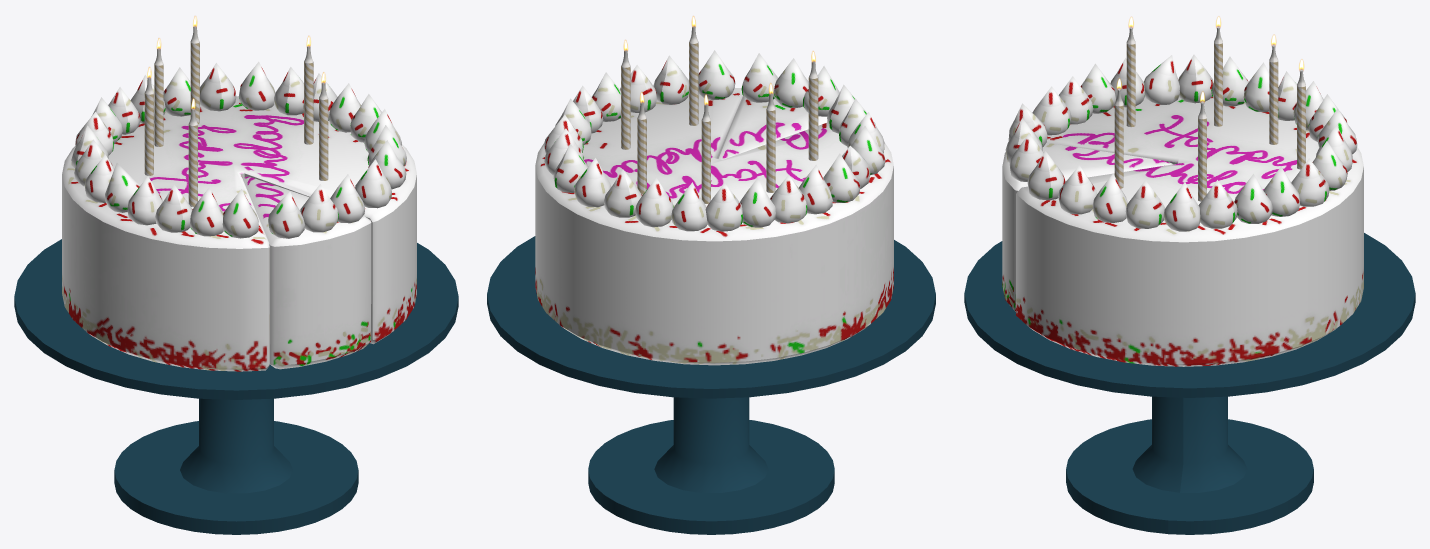
3 renders of one model, left to right at view 1: azimuth 30°, elevation 25°; view 2: azimuth 150°, elevation 25°; view 3: azimuth 270°, elevation 25°, orthographic.
Visible parts, largest first — view 1: MOD_CakeSliceTakenOut.001, MOD_CakePlatter.001, MOD_CakeSlice.001, MOD_BirthdayCandle.002, MOD_BirthdayCandle.004, MOD_BirthdayCandle.005, MOD_BirthdayCandle.003, MOD_BirthdayCandle.001, MOD_BirthdayCandle.006; view 2: MOD_CakeSliceTakenOut.001, MOD_CakePlatter.001, MOD_CakeSlice.001, MOD_BirthdayCandle.001, MOD_BirthdayCandle.002, MOD_BirthdayCandle.004, MOD_BirthdayCandle.005, MOD_BirthdayCandle.003, MOD_BirthdayCandle.006; view 3: MOD_CakeSliceTakenOut.001, MOD_CakePlatter.001, MOD_CakeSlice.001, MOD_BirthdayCandle.001, MOD_BirthdayCandle.003, MOD_BirthdayCandle.004, MOD_BirthdayCandle.002, MOD_BirthdayCandle.006, MOD_BirthdayCandle.005.
Part boxes in pixels (left/top/right/bottom): MOD_CakeSliceTakenOut.001: left=62, top=61, right=416, bottom=371; MOD_CakePlatter.001: left=14, top=239, right=458, bottom=534; MOD_CakeSlice.001: left=242, top=174, right=371, bottom=369; MOD_BirthdayCandle.002: left=144, top=67, right=153, bottom=175; MOD_BirthdayCandle.004: left=319, top=72, right=328, bottom=180; MOD_BirthdayCandle.005: left=304, top=36, right=313, bottom=144; MOD_BirthdayCandle.003: left=154, top=38, right=163, bottom=146; MOD_BirthdayCandle.001: left=188, top=98, right=197, bottom=207; MOD_BirthdayCandle.006: left=190, top=16, right=199, bottom=124; MOD_CakeSliceTakenOut.001: left=535, top=50, right=893, bottom=365; MOD_CakePlatter.001: left=487, top=236, right=935, bottom=534; MOD_CakeSlice.001: left=718, top=53, right=839, bottom=159; MOD_BirthdayCandle.001: left=808, top=51, right=818, bottom=160; MOD_BirthdayCandle.002: left=766, top=83, right=775, bottom=192; MOD_BirthdayCandle.004: left=689, top=16, right=698, bottom=125; MOD_BirthdayCandle.005: left=621, top=40, right=630, bottom=149; MOD_BirthdayCandle.003: left=701, top=94, right=710, bottom=203; MOD_BirthdayCandle.006: left=637, top=92, right=646, bottom=195; MOD_CakeSliceTakenOut.001: left=1016, top=54, right=1363, bottom=366; MOD_CakePlatter.001: left=964, top=233, right=1415, bottom=534; MOD_CakeSlice.001: left=1002, top=103, right=1172, bottom=311; MOD_BirthdayCandle.001: left=1126, top=17, right=1135, bottom=127; MOD_BirthdayCandle.003: left=1269, top=34, right=1278, bottom=144; MOD_BirthdayCandle.004: left=1114, top=78, right=1123, bottom=188; MOD_BirthdayCandle.002: left=1214, top=16, right=1222, bottom=126; MOD_BirthdayCandle.006: left=1297, top=59, right=1305, bottom=169; MOD_BirthdayCandle.005: left=1198, top=91, right=1206, bottom=201.
Bounding box in the file's own units: 0.4898 × 0.5164 × 0.4898.
3 materials, 3 textured.
